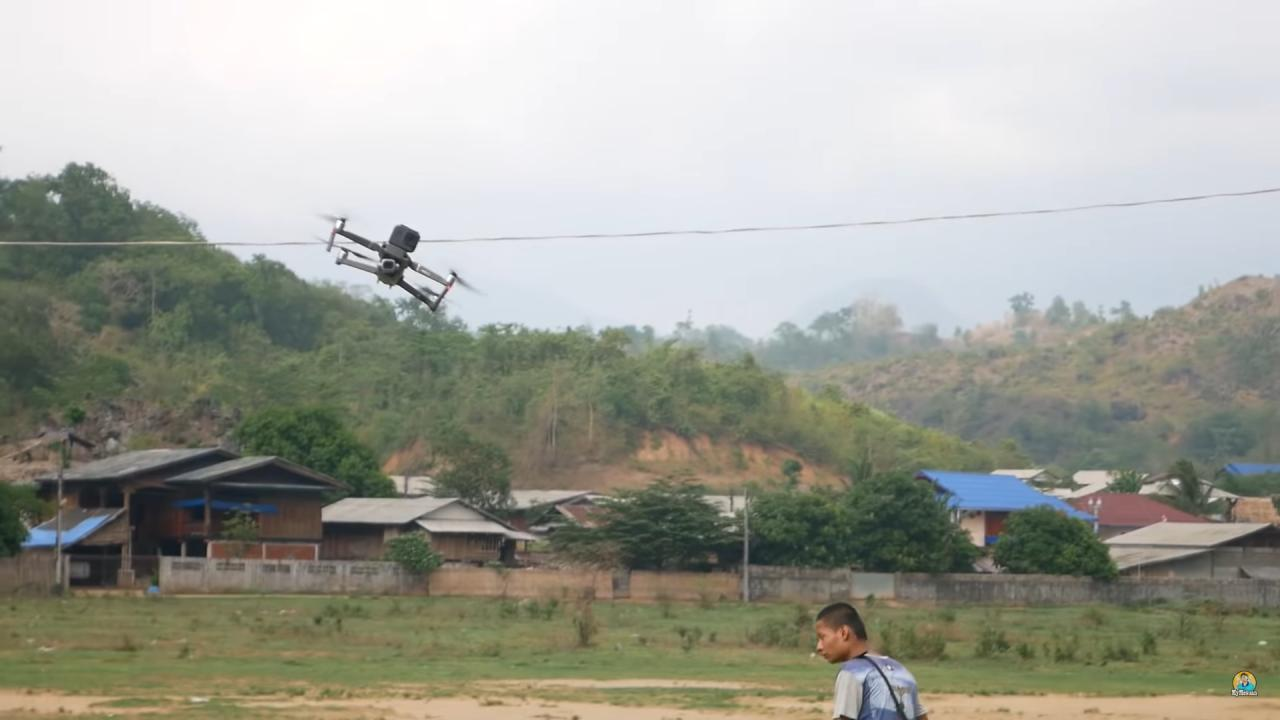Drone: (292, 200, 494, 330)
